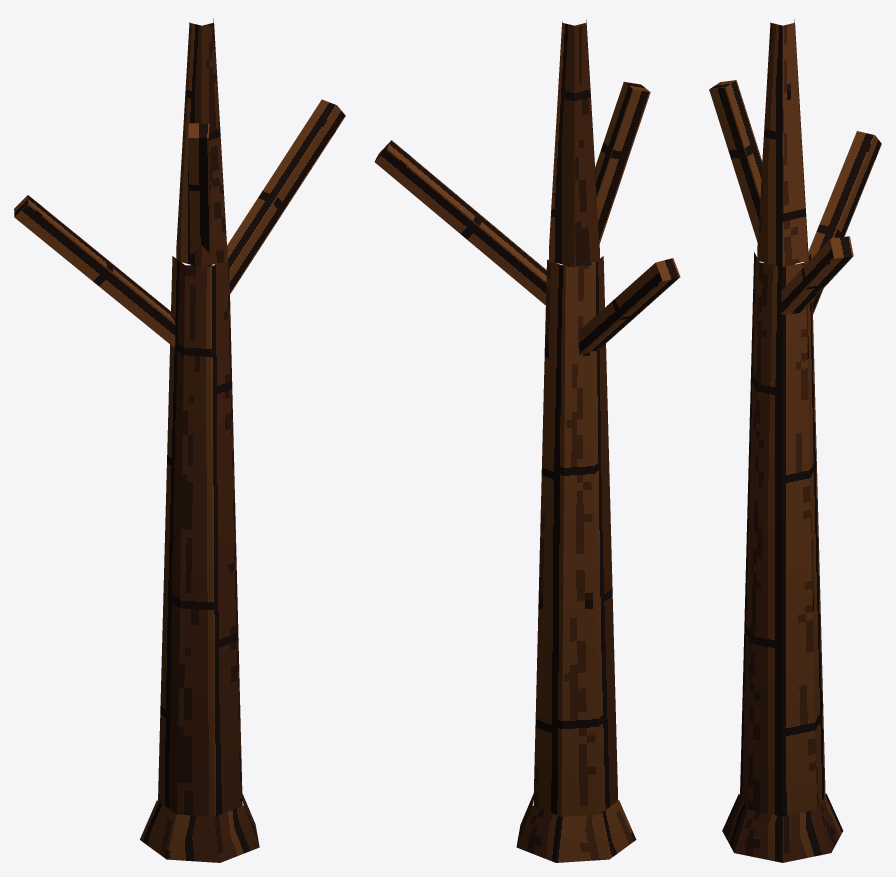
File: oak_1_trunk.glb
3 renders of one model, left to right at view 1: azimuth 30°, elevation 25°; view 2: azimuth 150°, elevation 25°; view 3: azimuth 270°, elevation 25°, orthographic.
Parts seen in each view (by area): view 1: oak_1_trunk; view 2: oak_1_trunk; view 3: oak_1_trunk.
Boxes of the visible parts, <box> form: oak_1_trunk: <box>14,18,345,862</box>; oak_1_trunk: <box>374,19,680,862</box>; oak_1_trunk: <box>709,19,881,862</box>.
Size of the model in its own units: 2.11 by 5.22 by 1.
Materials: 1 (1 with a texture image).
